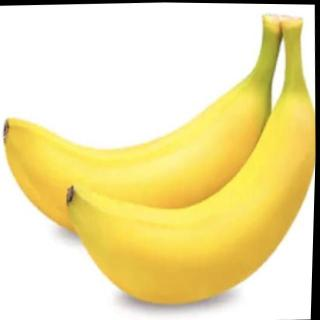banana: (60, 87, 318, 312), (0, 76, 280, 244)
